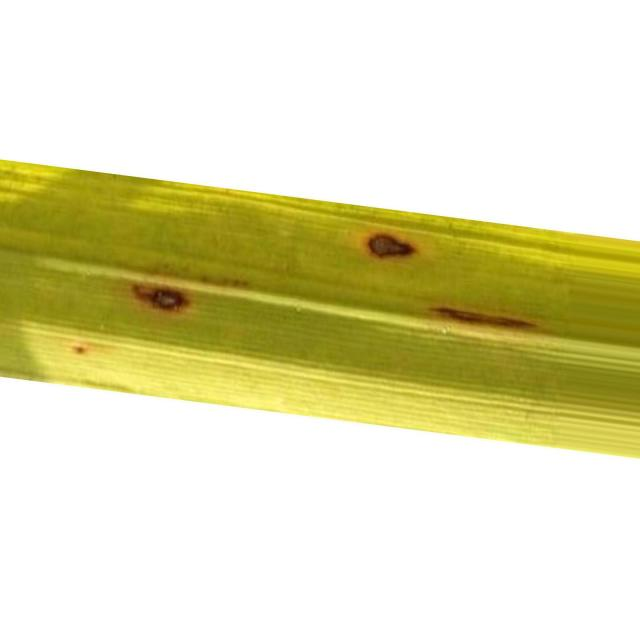Brown_Spot: (431, 306, 536, 328), (369, 234, 414, 257), (151, 289, 188, 310)
